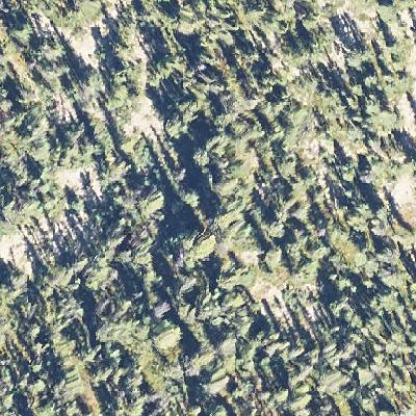tree-top: (102, 56, 148, 106), (358, 90, 398, 136), (130, 178, 173, 220), (161, 96, 203, 138), (145, 320, 181, 352), (73, 61, 102, 98), (258, 242, 285, 266), (5, 264, 28, 287)
